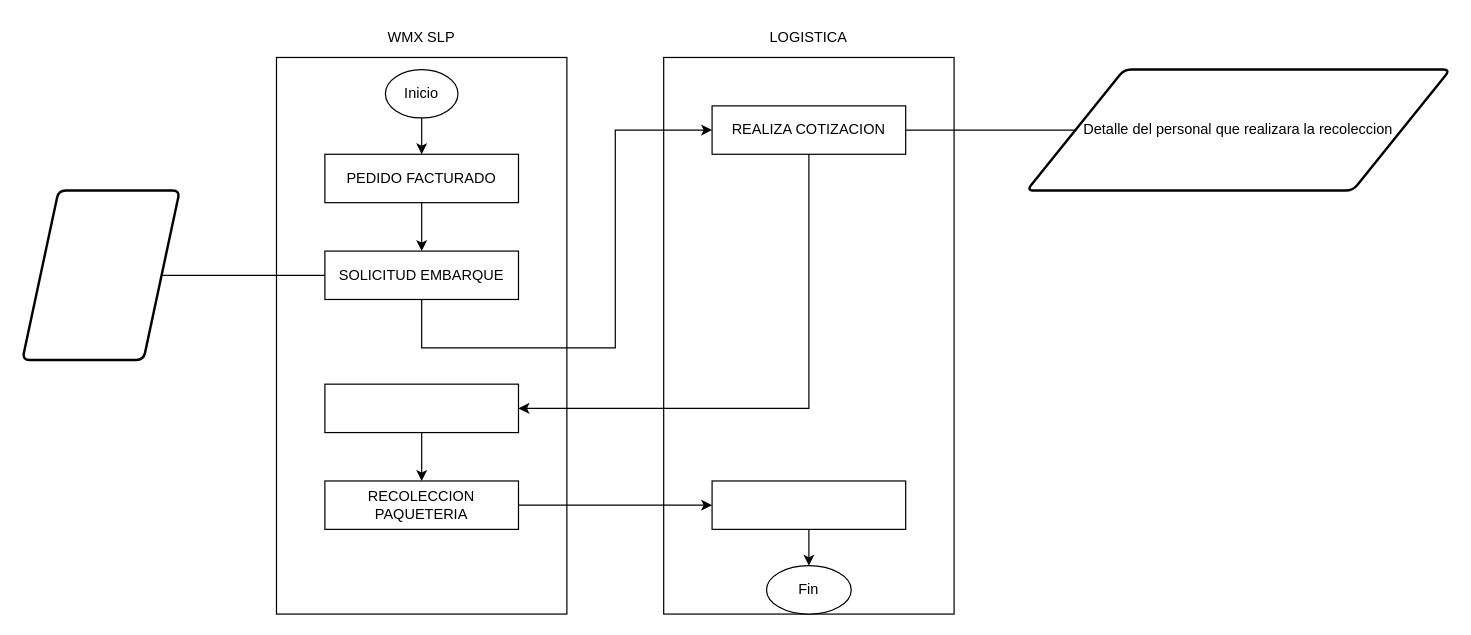
The diagram is 1471 pixels wide and 635 high, and some of its shapes have lost their labels. The shapes that lost their labels are listed below. From the top down, each one's box as (x1, y1, x2, y2) in pixels, then its label:
(21, 189, 180, 361): Informacion de las Facturas a enviar
(324, 383, 518, 433): GENERA GUIAS
(711, 480, 906, 529): SEGUIMIENTO DEL ENVIO
